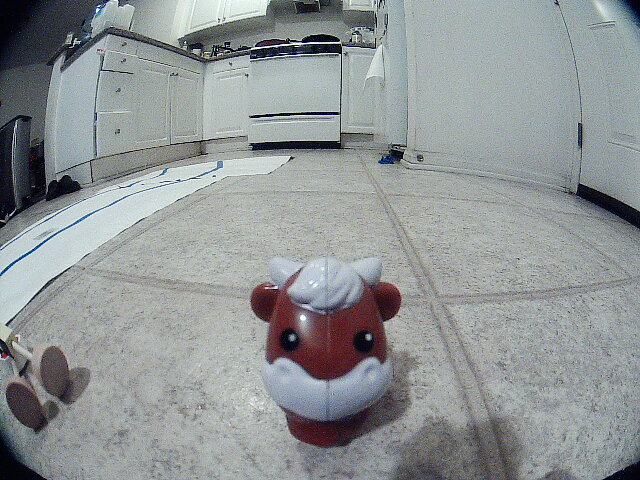Cow: (220, 251, 448, 461)
